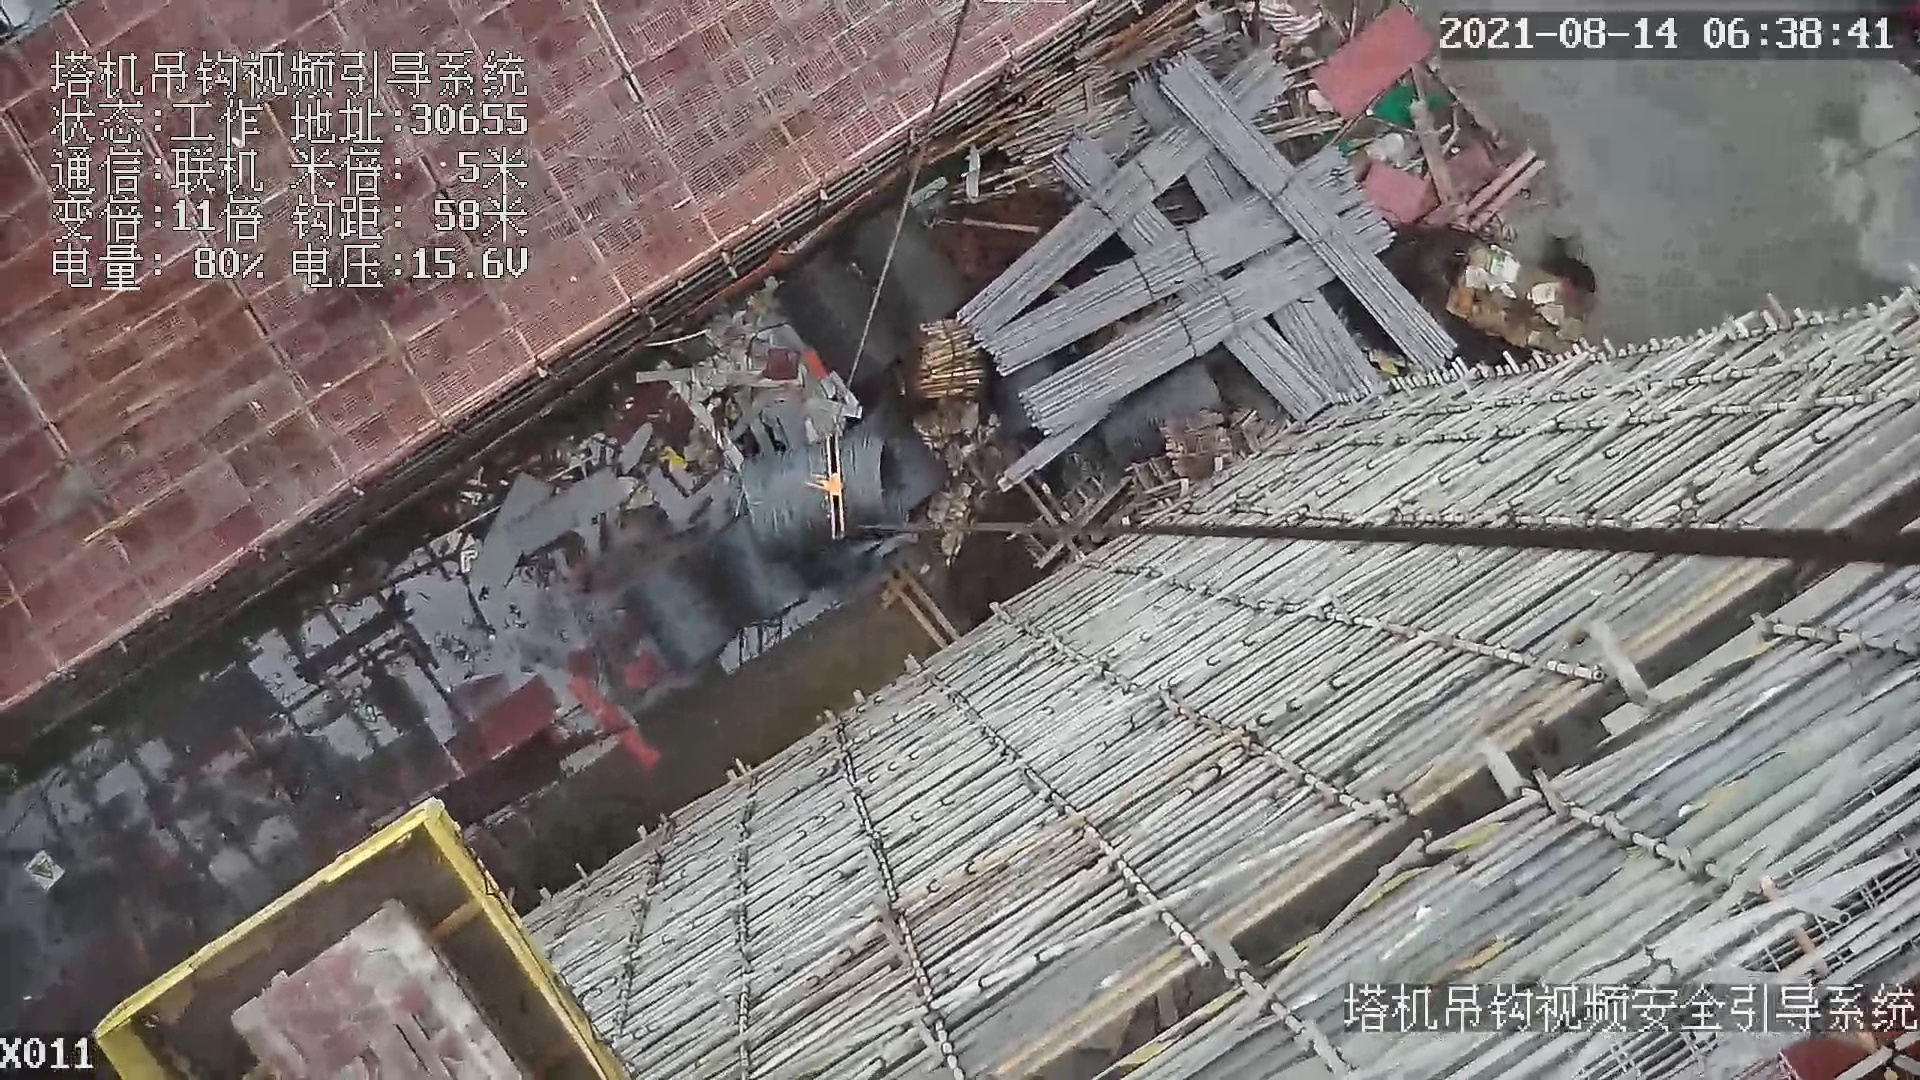hook: (806, 435, 851, 541)
